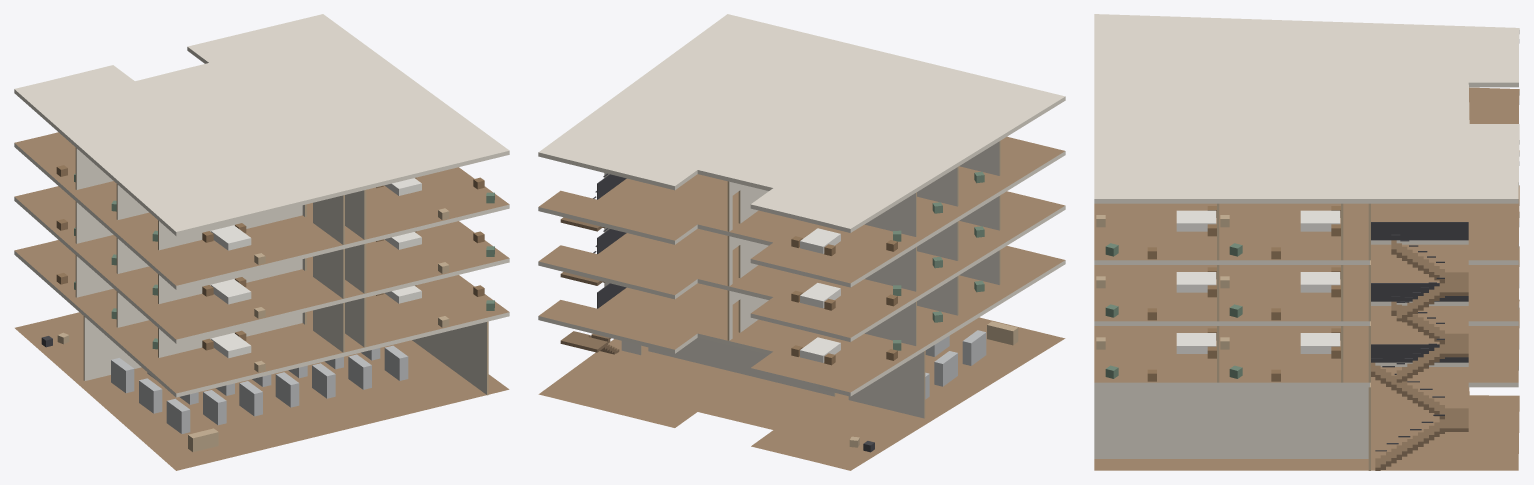
File: interior.glb
3 renders of one model, left to right at view 1: azimuth 30°, elevation 25°; view 2: azimuth 150°, elevation 25°; view 3: azimuth 270°, elevation 25°, orthographic. The views are drawn at different scales.
Parts seen in each view (by area): view 1: slabs, partitions, coarse-s0, coarse-s3, coarse-s2, coarse-s1; view 2: slabs, partitions, coarse-s0, stair, coarse-s2, coarse-s1, coarse-s3; view 3: slabs, partitions, stair, coarse-s3, coarse-s1, coarse-s2.
Part boxes in pixels (bbox=[...]): slabs: bbox=[14, 14, 509, 470]; partitions: bbox=[75, 148, 488, 395]; coarse-s0: bbox=[41, 332, 408, 451]; coarse-s3: bbox=[56, 165, 494, 264]; coarse-s2: bbox=[56, 219, 494, 318]; coarse-s1: bbox=[56, 273, 494, 372]; slabs: bbox=[538, 14, 1065, 470]; partitions: bbox=[604, 141, 1000, 418]; coarse-s0: bbox=[849, 321, 1018, 452]; stair: bbox=[560, 173, 626, 354]; coarse-s2: bbox=[791, 226, 984, 310]; coarse-s1: bbox=[791, 280, 984, 365]; coarse-s3: bbox=[791, 171, 984, 255]; slabs: bbox=[1094, 14, 1519, 470]; partitions: bbox=[1094, 203, 1370, 470]; stair: bbox=[1371, 222, 1468, 470]; coarse-s3: bbox=[1096, 206, 1340, 259]; coarse-s1: bbox=[1096, 328, 1340, 381]; coarse-s2: bbox=[1096, 267, 1340, 320].
Size of the model in its own units: 22.05 by 15.11 by 21.43.
